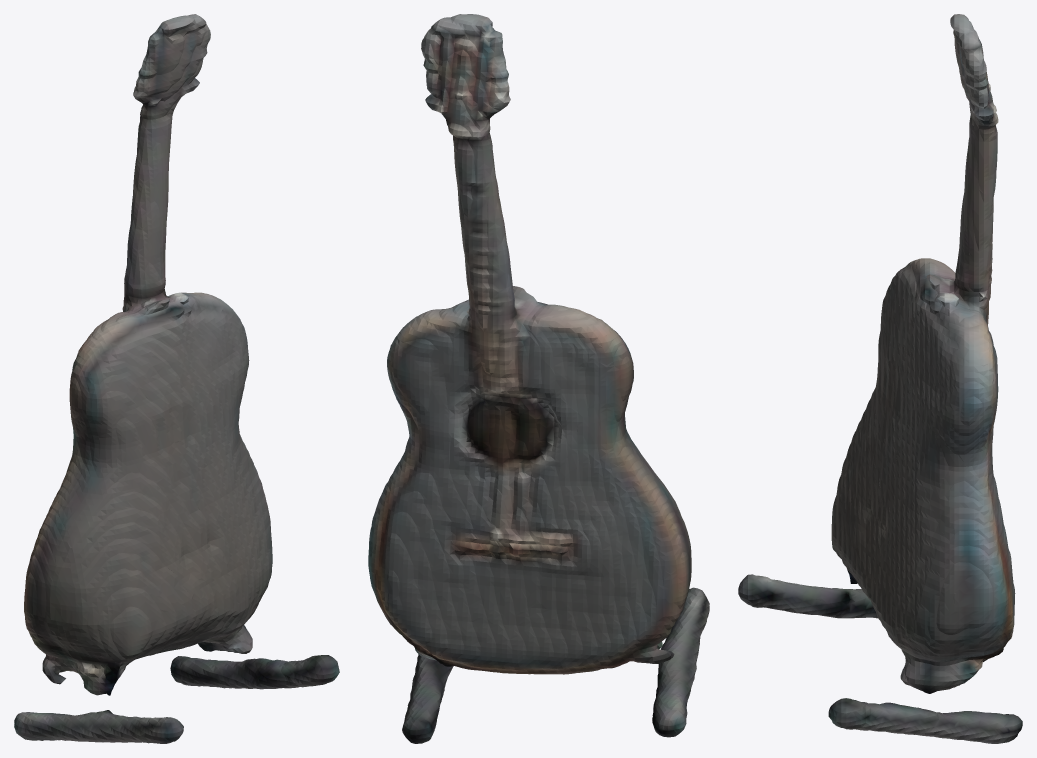
The model's file is guitar.glb.
3 renders of one model, left to right at view 1: azimuth 30°, elevation 25°; view 2: azimuth 150°, elevation 25°; view 3: azimuth 270°, elevation 25°, orthographic. The views are drawn at different scales.
Parts seen in each view (by area): view 1: geometry_0; view 2: geometry_0; view 3: geometry_0.
Part boxes in pixels (bbox=[...]): geometry_0: bbox=[14, 14, 339, 743]; geometry_0: bbox=[368, 14, 709, 743]; geometry_0: bbox=[738, 14, 1022, 743].
Bounding box in the file's own units: 0.4692 × 1.08 × 0.3945.
